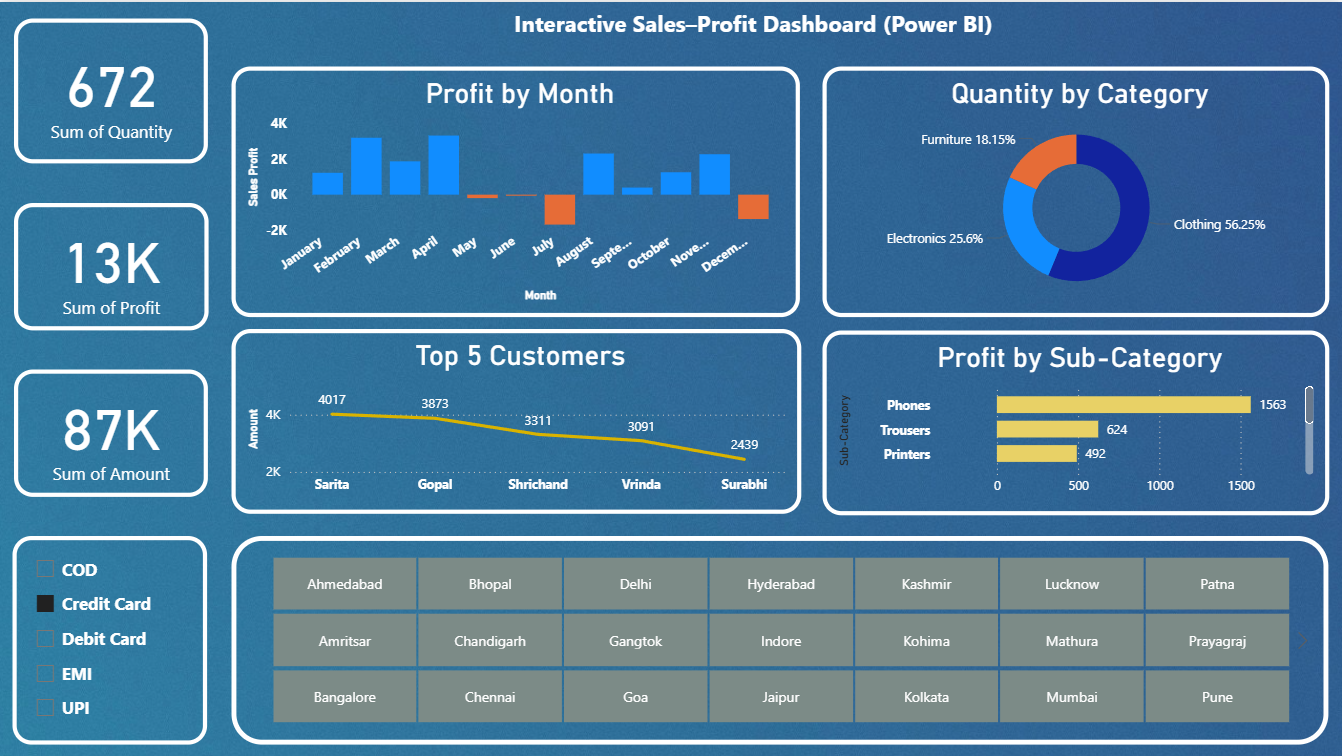

The page's visual inventory and layout, read from the dashboard file:
{"tool":"powerbi","page":{"name":"Page 1","canvas":[1280,720],"ordinal":0},"visuals":[{"type":"columnChart","title":"Profit by Month","fields":{"Y":["Sum(Details.Profit)"],"Category":["Orders.Order Date.Variation.Date Hierarchy.Month"]},"box":[221.4,61.4,541.4,238.6],"z":0},{"type":"card","title":"fff","fields":{"Values":["Sum(Details.Quantity)"]},"box":[13.6,15.1,184.7,137.8],"z":1000},{"type":"slicer","fields":{"Values":["Orders.City"]},"box":[221.7,508.2,1044.9,198.7],"z":2000},{"type":"card","fields":{"Values":["Sum(Details.Profit)"]},"box":[14,191.2,185,121.3],"z":3000},{"type":"donutChart","title":"Quantity by Category","fields":{"Category":["Details.Category"],"Y":["Sum(Details.Quantity)"]},"box":[784.3,61.4,482.9,238.6],"z":4000},{"type":"slicer","fields":{"Values":["Details.PaymentMode"]},"box":[13.2,508.4,185.2,198.4],"z":5000},{"type":"lineChart","title":"Top 5 Customers","fields":{"Y":["Sum(Details.Amount)"],"Category":["Orders.CustomerName"]},"box":[221.1,311.8,542.4,175.7],"z":6000},{"type":"barChart","title":"Profit by Sub-Category","fields":{"Category":["Details.Sub-Category"],"Y":["Sum(Details.Profit)"]},"box":[784,312.2,482.6,175.7],"z":7000},{"type":"card","fields":{"Values":["Sum(Details.Amount)"]},"box":[13.6,349.8,184.7,121.1],"z":8000},{"type":"textbox","box":[471.4,0,494.3,40],"z":9000}]}

Visuals, with their boxes in screenshot pixels (x1, y1, x2, y2), scaled from the page's 1280x720 canvas onto the 1342x756 screenshot:
"Profit by Month" columnChart: {"x1": 232, "y1": 64, "x2": 800, "y2": 315}
"fff" card: {"x1": 14, "y1": 16, "x2": 208, "y2": 161}
slicer - Orders.City: {"x1": 232, "y1": 534, "x2": 1328, "y2": 742}
card - Sum(Details.Profit): {"x1": 15, "y1": 201, "x2": 209, "y2": 328}
"Quantity by Category" donutChart: {"x1": 822, "y1": 64, "x2": 1329, "y2": 315}
slicer - Details.PaymentMode: {"x1": 14, "y1": 534, "x2": 208, "y2": 742}
"Top 5 Customers" lineChart: {"x1": 232, "y1": 327, "x2": 800, "y2": 512}
"Profit by Sub-Category" barChart: {"x1": 822, "y1": 328, "x2": 1328, "y2": 512}
card - Sum(Details.Amount): {"x1": 14, "y1": 367, "x2": 208, "y2": 494}
textbox: {"x1": 494, "y1": 0, "x2": 1012, "y2": 42}
